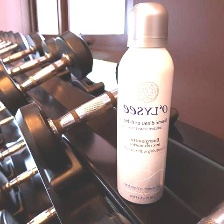aerosol_cans: (109, 0, 179, 207)
